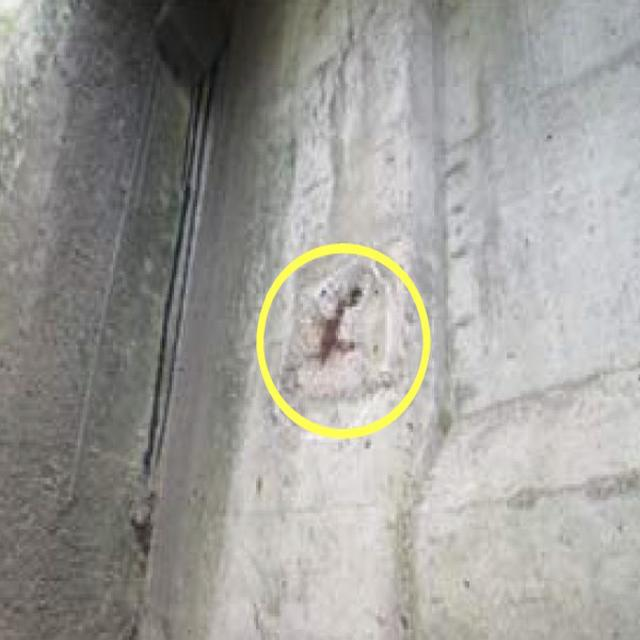spalling: (288, 273, 418, 408)
